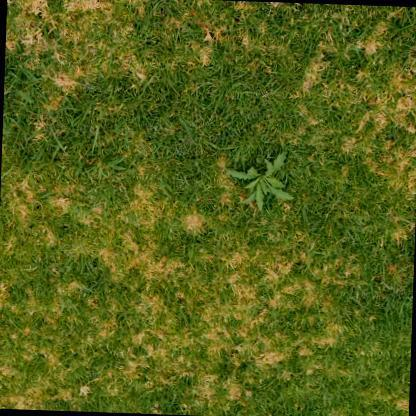Weeds: (225, 149, 296, 213)
